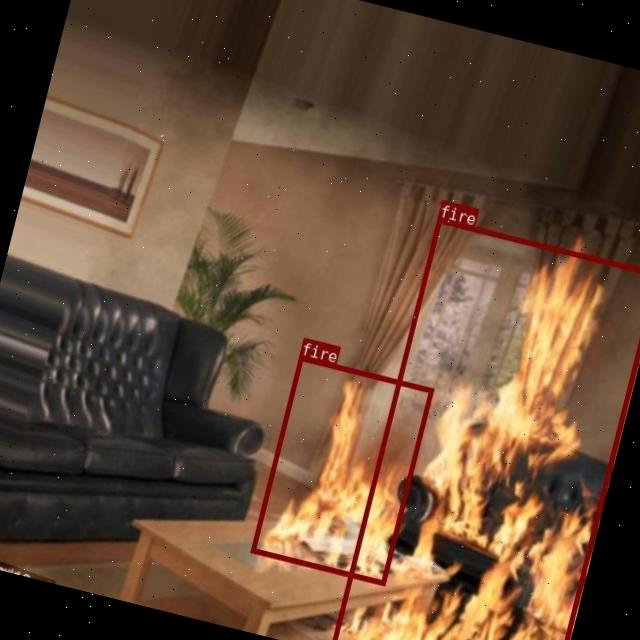fire: (328, 216, 640, 640), (250, 355, 433, 584)
